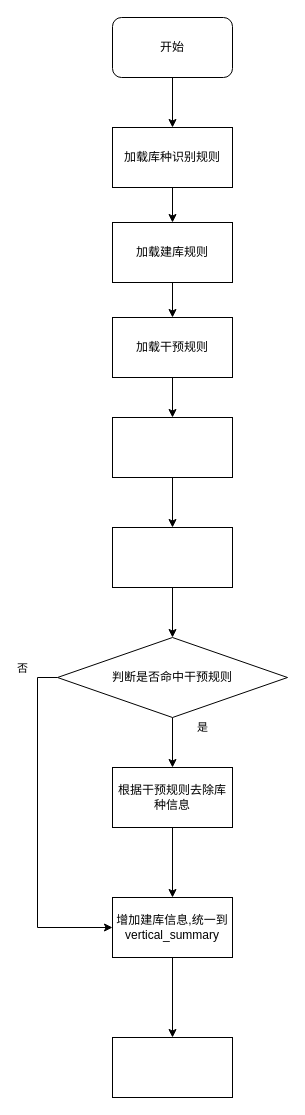
Some shapes in this 305 by 1115 pixel diagram are drawn without their labels. The centre of each missing label's shape, as x and y in pixels:
增加建库时效性信息: the point at 172,1067
处理stdin: the point at 172,447
识别所有库种，并增加库种信息: the point at 172,557
